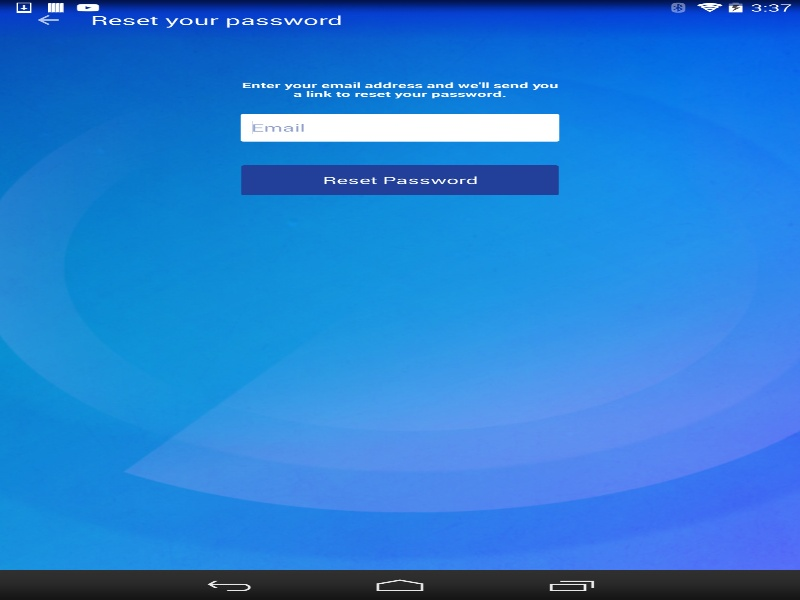Button: (236, 161, 564, 199), (10, 0, 85, 40)
Input: (240, 114, 559, 141)
